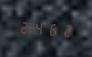four: (31, 19, 43, 36)
six: (44, 19, 56, 37)
two: (57, 20, 69, 38), (18, 18, 30, 35)
